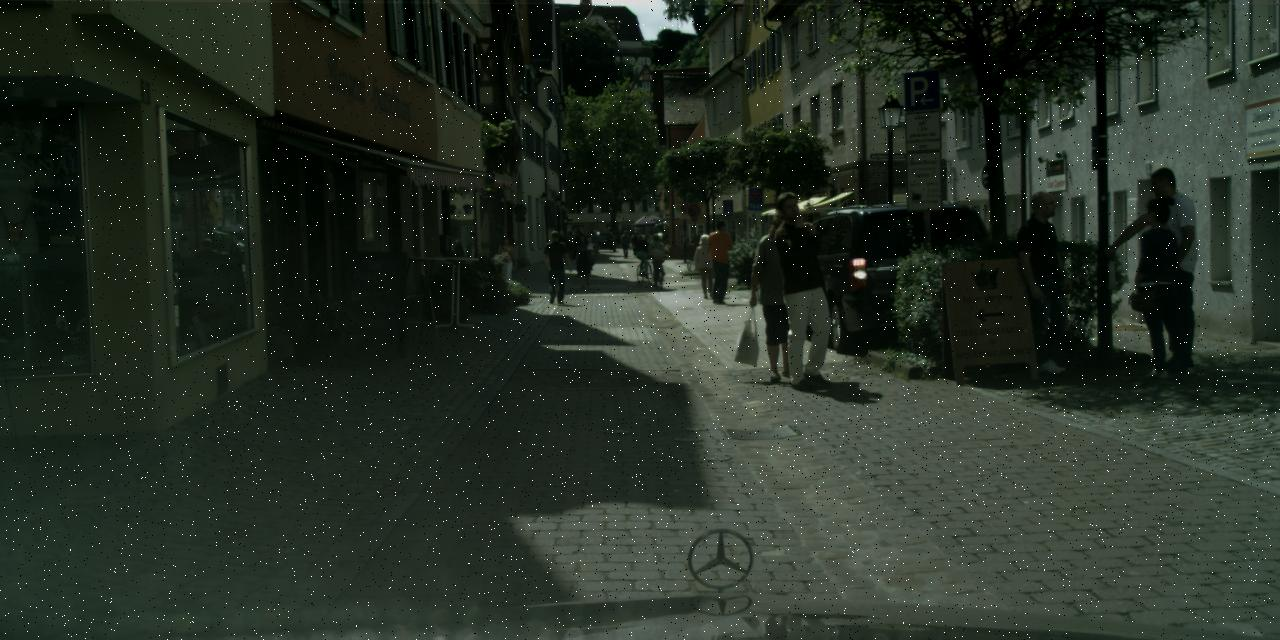ped: (1130, 167, 1212, 370), (758, 191, 838, 387), (1009, 190, 1083, 372), (1130, 196, 1202, 373), (748, 210, 816, 378), (702, 219, 736, 304), (540, 230, 570, 302), (692, 233, 718, 298), (573, 234, 593, 286), (495, 236, 515, 286), (648, 235, 666, 281), (634, 234, 651, 276), (619, 229, 630, 257), (589, 230, 600, 258), (565, 231, 576, 259), (630, 230, 640, 256), (557, 233, 567, 259), (576, 232, 586, 256)
